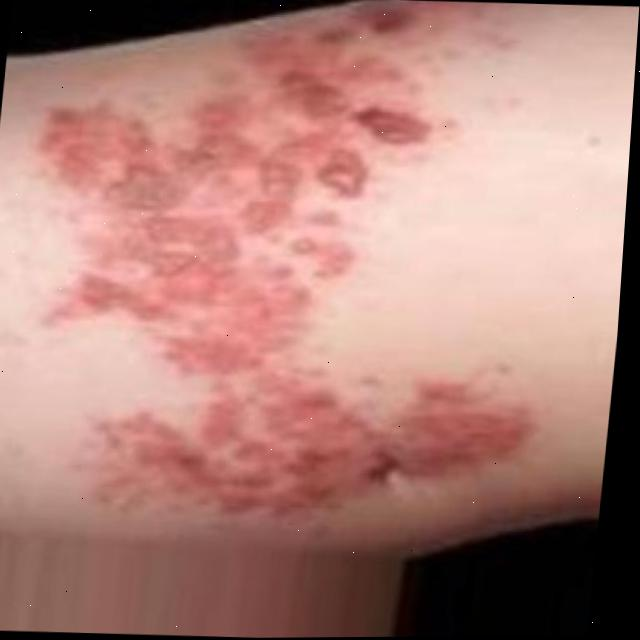Shingles: (71, 13, 536, 522)
